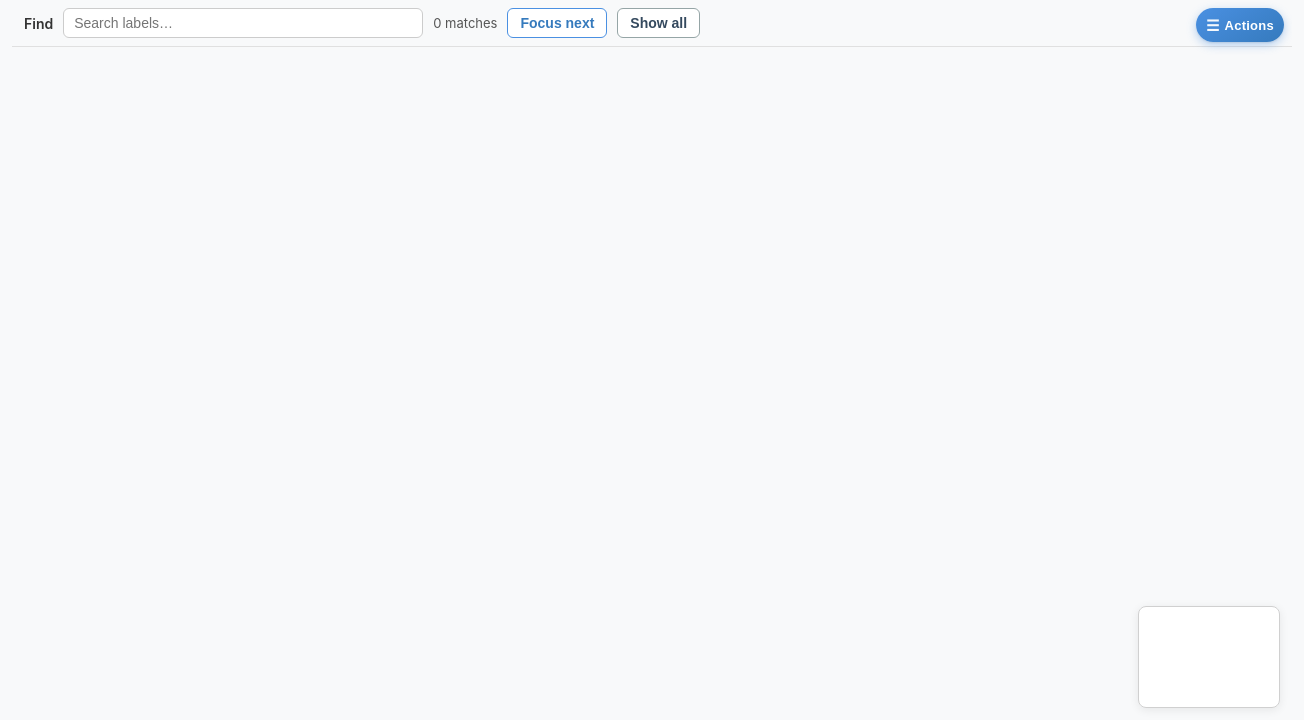
Test: GraphVisualization graph action menu › opens the action menu on context menu (right-click) on the SVG
Right-click the icon with class "graph-visualization" at (652, 384), box [12, 47, 1292, 719]
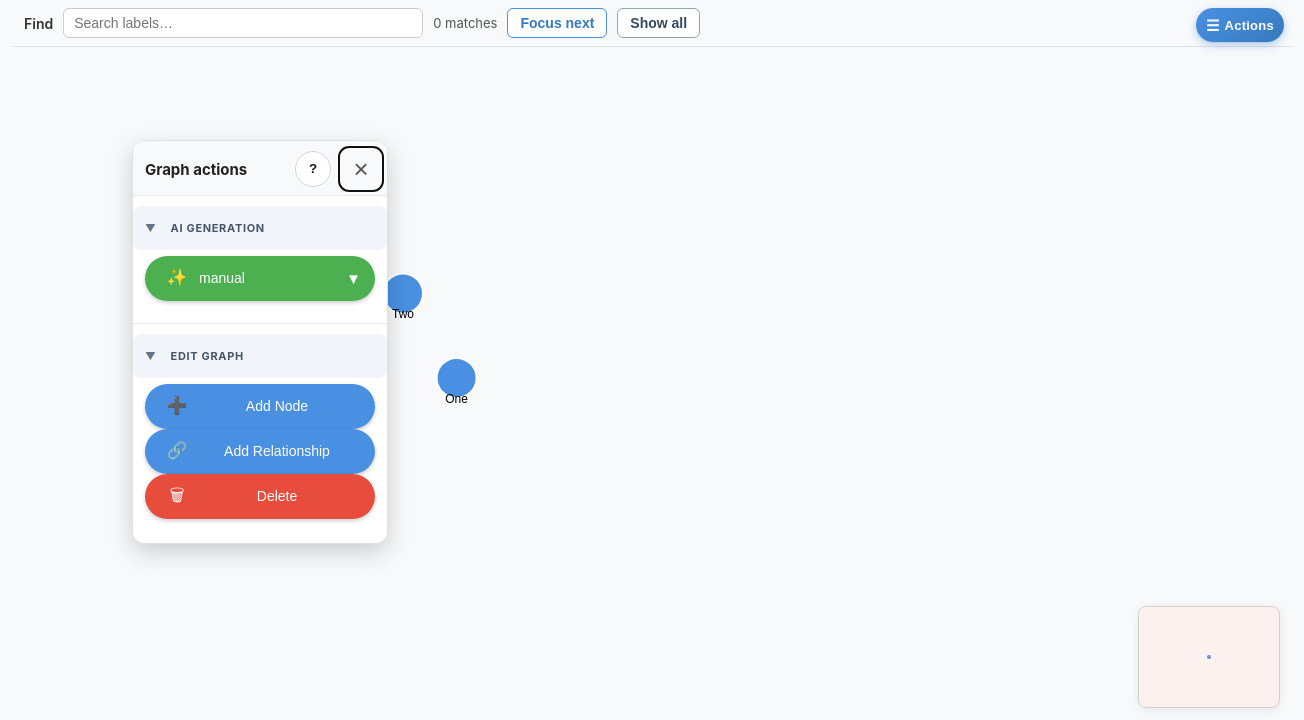
expect the element "Graph actions" is shown: met, box [132, 140, 388, 544]
expect the button named "Open AI Generation form" is shown: met, box [145, 256, 375, 301]
expect the button "➕ Add Node" is shown: met, box [145, 384, 375, 429]
